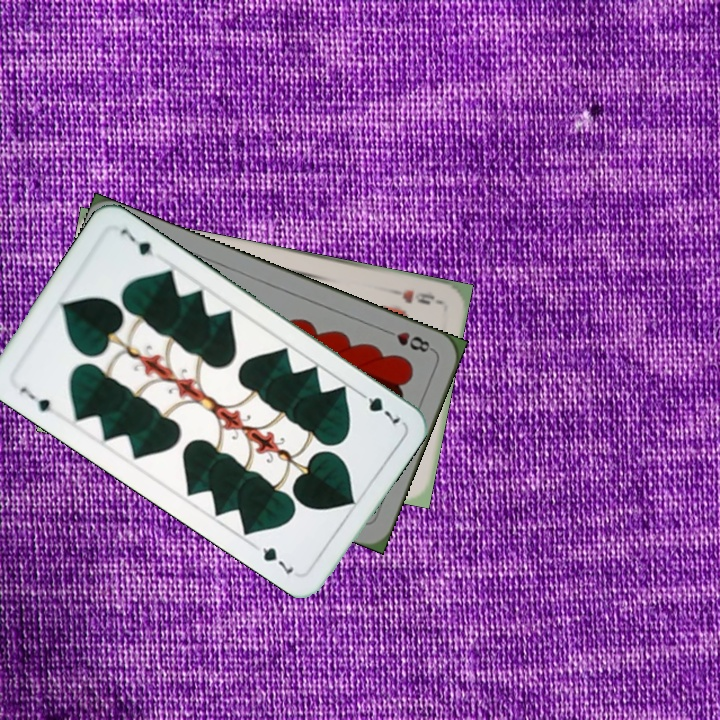G7: (352, 386, 404, 427), (15, 383, 59, 418)
H8: (379, 325, 436, 355)
H9: (398, 285, 443, 308)
